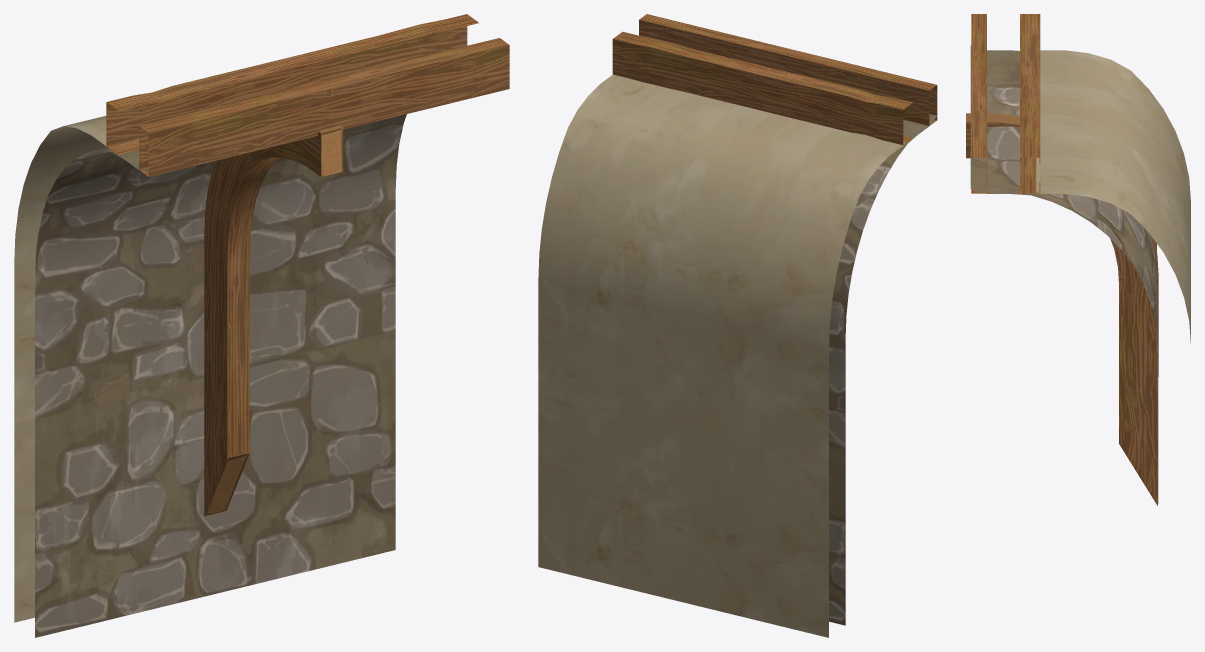
The model's file is overhang_unevenbrick_short.glb.
3 renders of one model, left to right at view 1: azimuth 30°, elevation 25°; view 2: azimuth 150°, elevation 25°; view 3: azimuth 270°, elevation 25°, orthographic. The views are drawn at different scales.
Bounding box in the file's own units: 2 × 3.12 × 1.32.
Materials: 3 (3 with a texture image).
